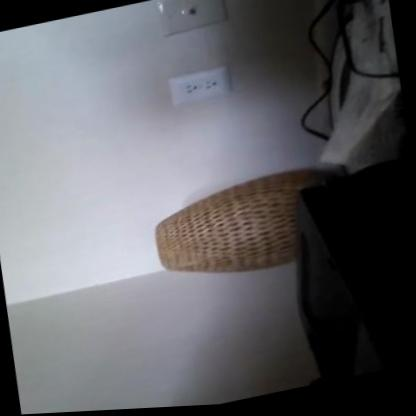OUTLET: (165, 64, 230, 105)
